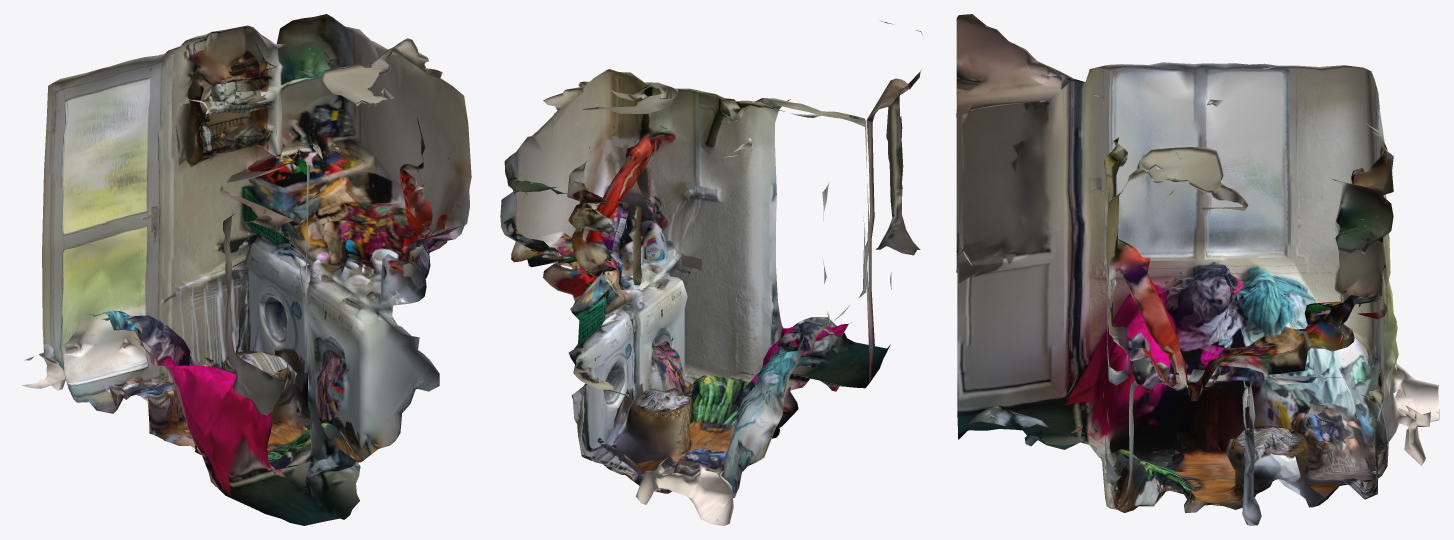
Rendered from Laundry.glb.
3 views of the same model, side by side, from view 1: azimuth 30°, elevation 25°; view 2: azimuth 150°, elevation 25°; view 3: azimuth 270°, elevation 25° (orthographic). The views are drawn at different scales.
Parts seen in each view (by area): view 1: LaundryNew; view 2: LaundryNew; view 3: LaundryNew.
Boxes of the visible parts, x1,y1,x2,y2 form: LaundryNew: (22, 14, 471, 525); LaundryNew: (500, 20, 922, 525); LaundryNew: (956, 14, 1439, 525).
Size of the model in its own units: 2.02 by 2.48 by 2.63.
1 material, 1 textured.
